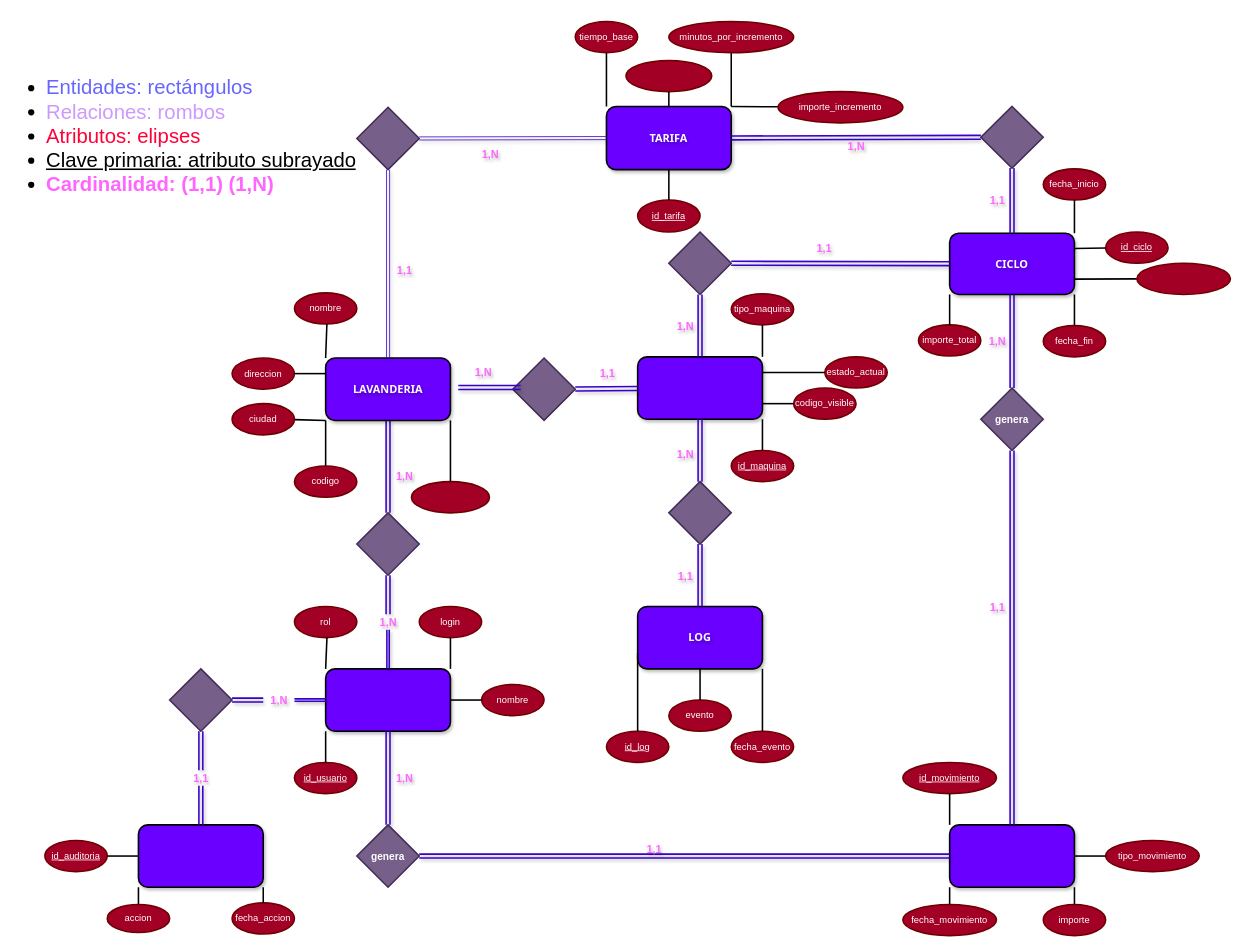
Image size: 1244x949. Some labels were removed from this diagram. The shapes that lost their labels are listed below. From the top down, each one's centre as x and y in pixels, then its label:
the point at 668,75: precio_arranque
the point at 388,138: define
the point at 1012,136: aplica
the point at 700,263: ejecuta
the point at 1183,278: tiempo_total_min
the point at 544,389: tiene
the point at 700,389: MAQUINA
the point at 450,496: id_lavanderia
the point at 700,512: registra
the point at 388,544: gestiona
the point at 200,700: realiza
the point at 388,701: USUARIO
the point at 201,857: AUDITORIA
the point at 1012,857: MOVIMIENTO
